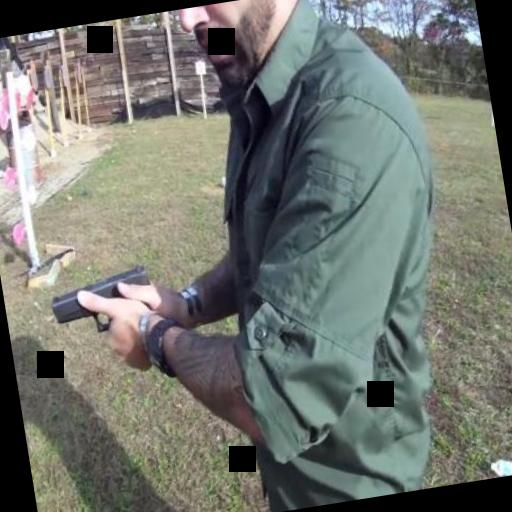Handgun: (39, 260, 169, 364)
